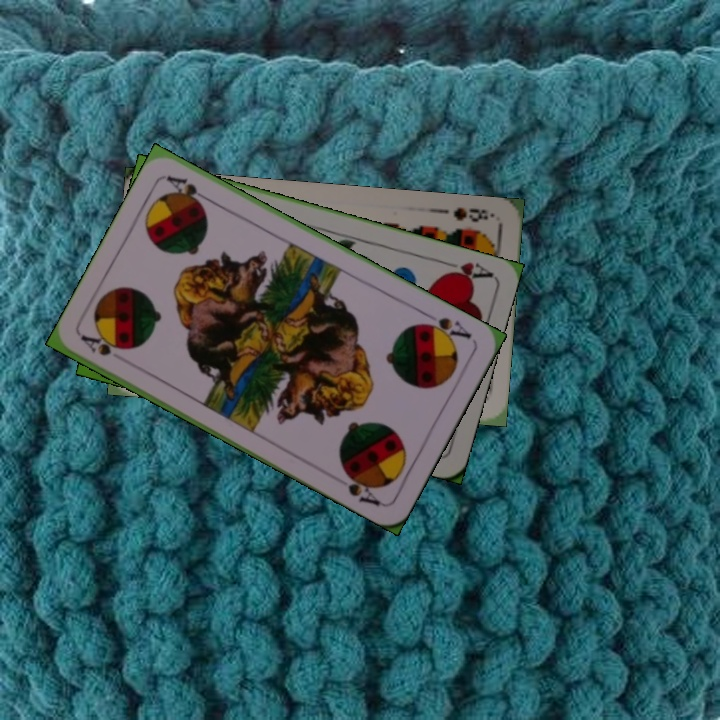HA: (435, 255, 494, 285)
S8: (449, 204, 497, 225)
SA: (416, 308, 474, 345), (77, 331, 126, 359)
